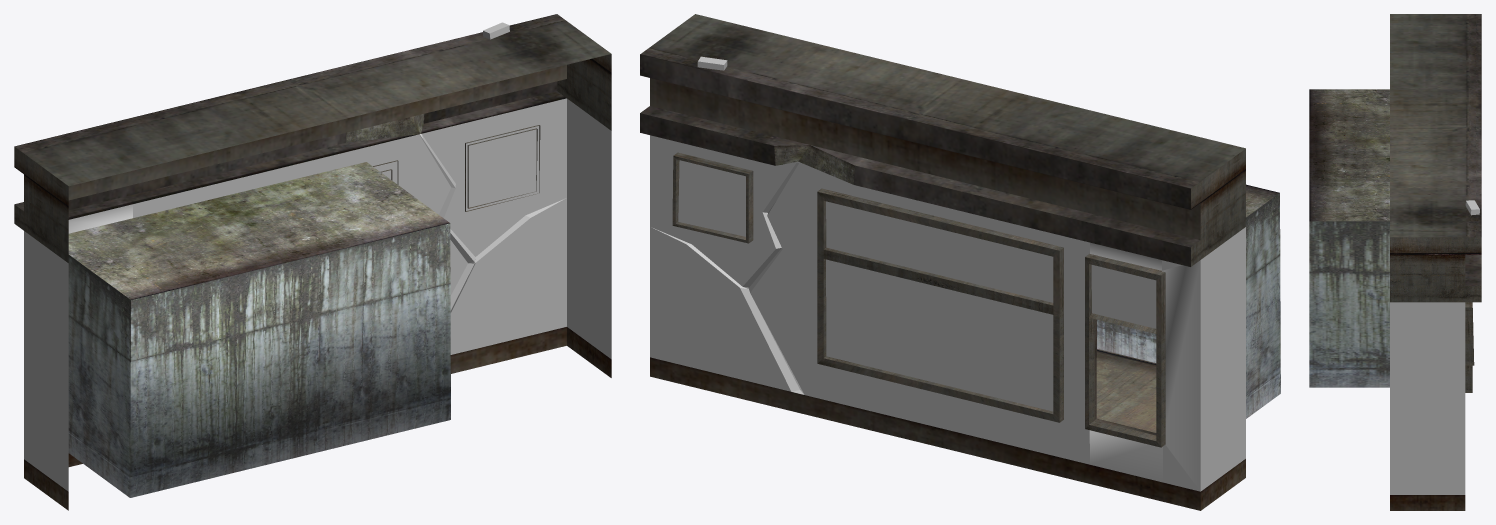
File: Store_front_16_C.fbx
3 views of the same model, side by side, from view 1: azimuth 30°, elevation 25°; view 2: azimuth 150°, elevation 25°; view 3: azimuth 270°, elevation 25° (orthographic). The views are drawn at different scales.
Parts seen in each view (by area): view 1: Store_front_16_C; view 2: Store_front_16_C; view 3: Store_front_16_C.
Part boxes in pixels (x1,y1,x2,y2): Store_front_16_C: [14, 14, 611, 510]; Store_front_16_C: [640, 14, 1280, 510]; Store_front_16_C: [1309, 14, 1481, 510].
Size of the model in its own units: 700 by 408 by 229.
